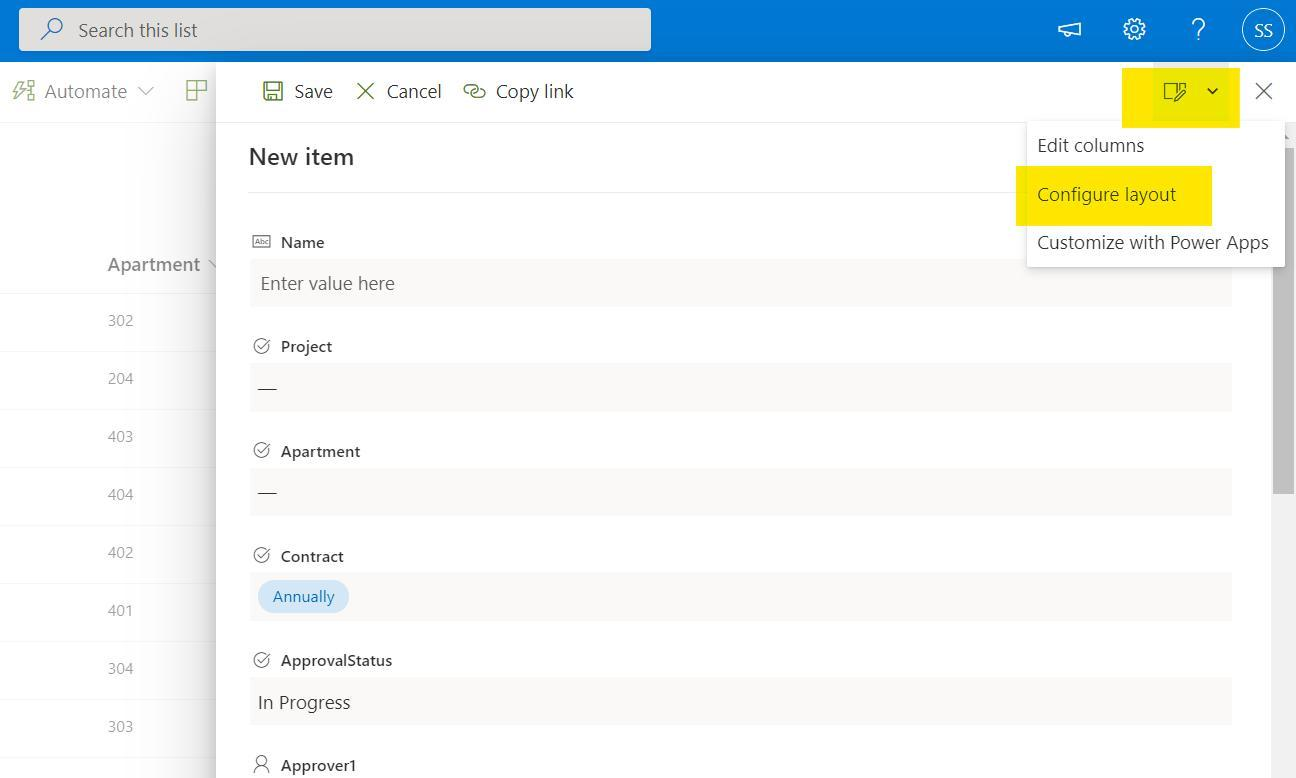dropdown: (43, 80, 162, 104), (1205, 82, 1223, 101)
icon: (1118, 17, 1152, 47), (181, 77, 212, 108), (11, 77, 39, 107), (1160, 80, 1191, 106), (462, 79, 489, 104), (261, 81, 289, 104), (1190, 18, 1212, 45), (248, 336, 277, 356), (251, 754, 275, 778), (252, 650, 275, 672), (356, 79, 377, 103), (249, 547, 275, 566), (1254, 80, 1276, 102), (1059, 23, 1083, 41), (253, 233, 274, 250), (253, 442, 273, 459)
input: (251, 468, 1236, 520), (251, 571, 1234, 623), (250, 363, 1234, 414), (252, 678, 1232, 728), (252, 260, 1028, 308), (20, 8, 653, 53)
label: (279, 652, 396, 672), (495, 81, 581, 106), (283, 754, 361, 778), (278, 441, 367, 462), (278, 334, 337, 359), (280, 546, 351, 565), (387, 81, 445, 102), (280, 236, 327, 255), (294, 83, 335, 100)
